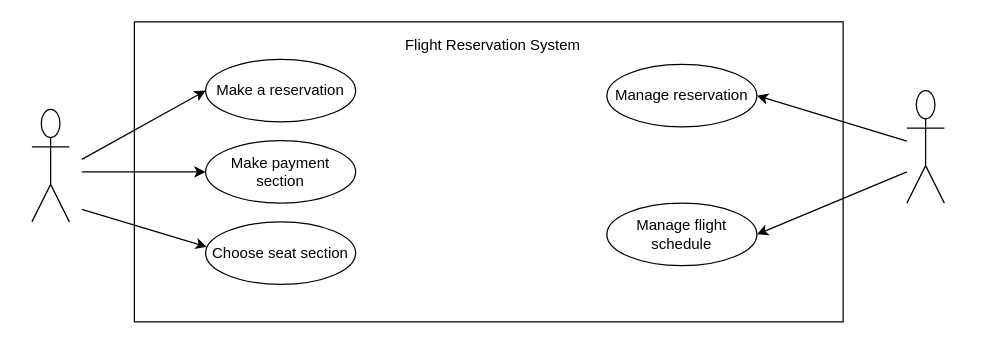
The diagram is 985 pixels wide and 344 high, and some of its shapes have lost their labels. The shapes that lost their labels are listed below. From the top down, each one's centre as x and y in pixels, then its label:
point (50, 165): Traveller
point (925, 146): Airline Staff
